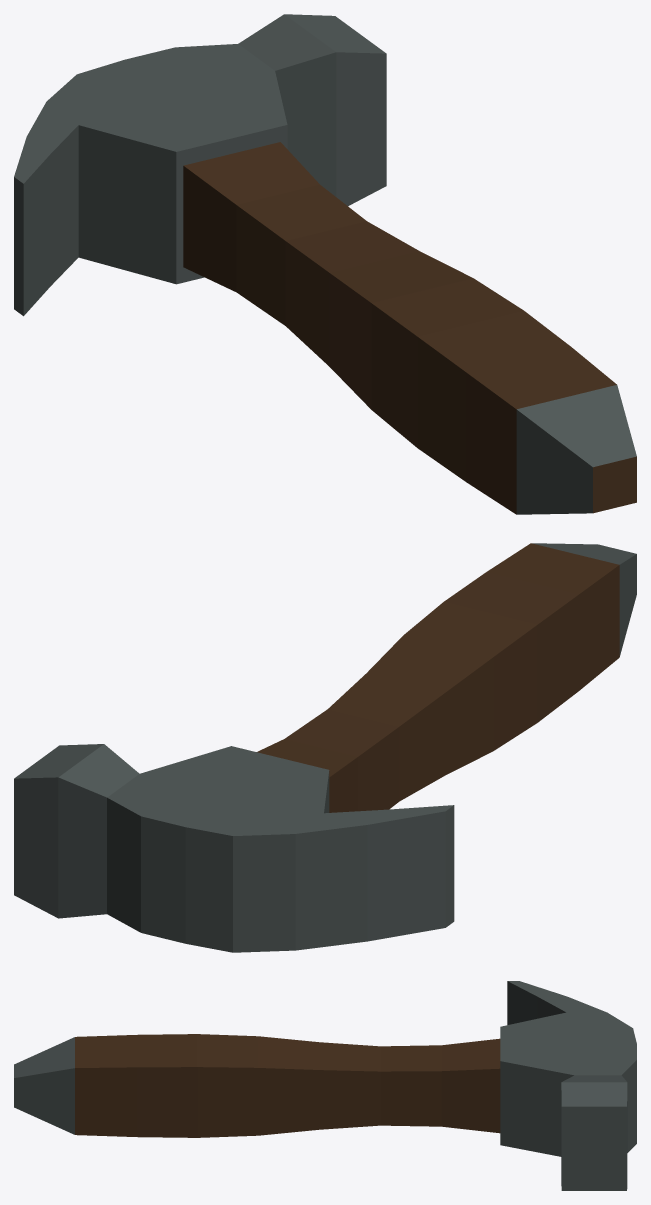
File: Hammer_1_Dark_Brown.fbx
The picture shows the model from 3 angles, top to bottom: view 1: azimuth 30°, elevation 25°; view 2: azimuth 150°, elevation 25°; view 3: azimuth 270°, elevation 25°; orthographic projection. The views are drawn at different scales.
Parts seen in each view (by area): view 1: Hammer_1_Dark_Brown; view 2: Hammer_1_Dark_Brown; view 3: Hammer_1_Dark_Brown.
Part boxes in pixels (box(x1,y1,x2,y2)): Hammer_1_Dark_Brown: box(14, 14, 636, 514); Hammer_1_Dark_Brown: box(14, 543, 636, 952); Hammer_1_Dark_Brown: box(14, 981, 636, 1190).
Size of the model in its own units: 16.3 by 6.15 by 34.12.
